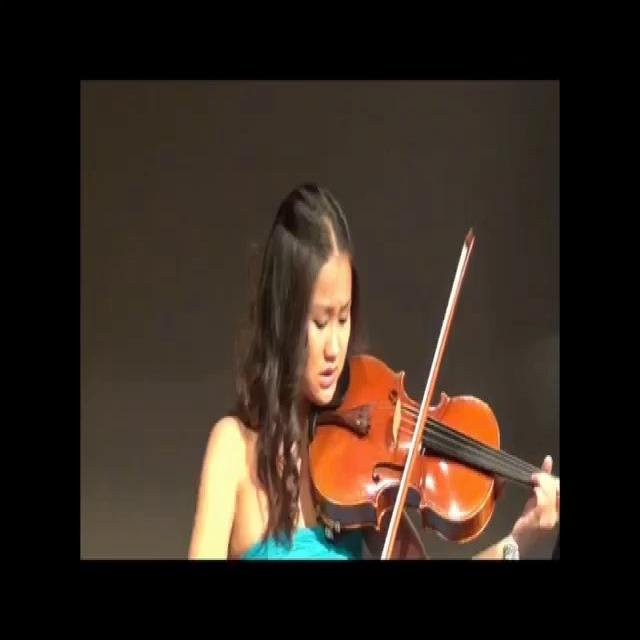Violin: (291, 338, 563, 547)
